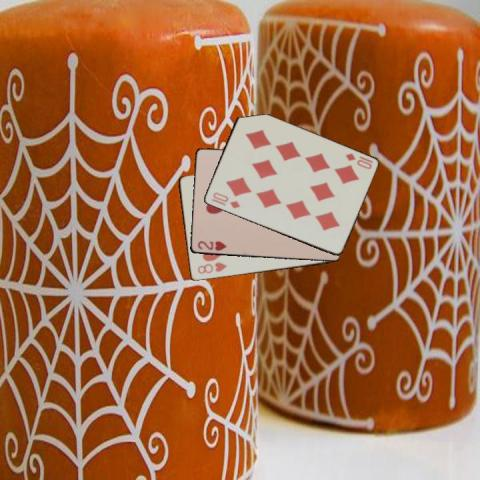10d: (208, 189, 241, 210), (342, 150, 373, 171)
2h: (195, 238, 227, 253)
8h: (194, 259, 228, 276)
